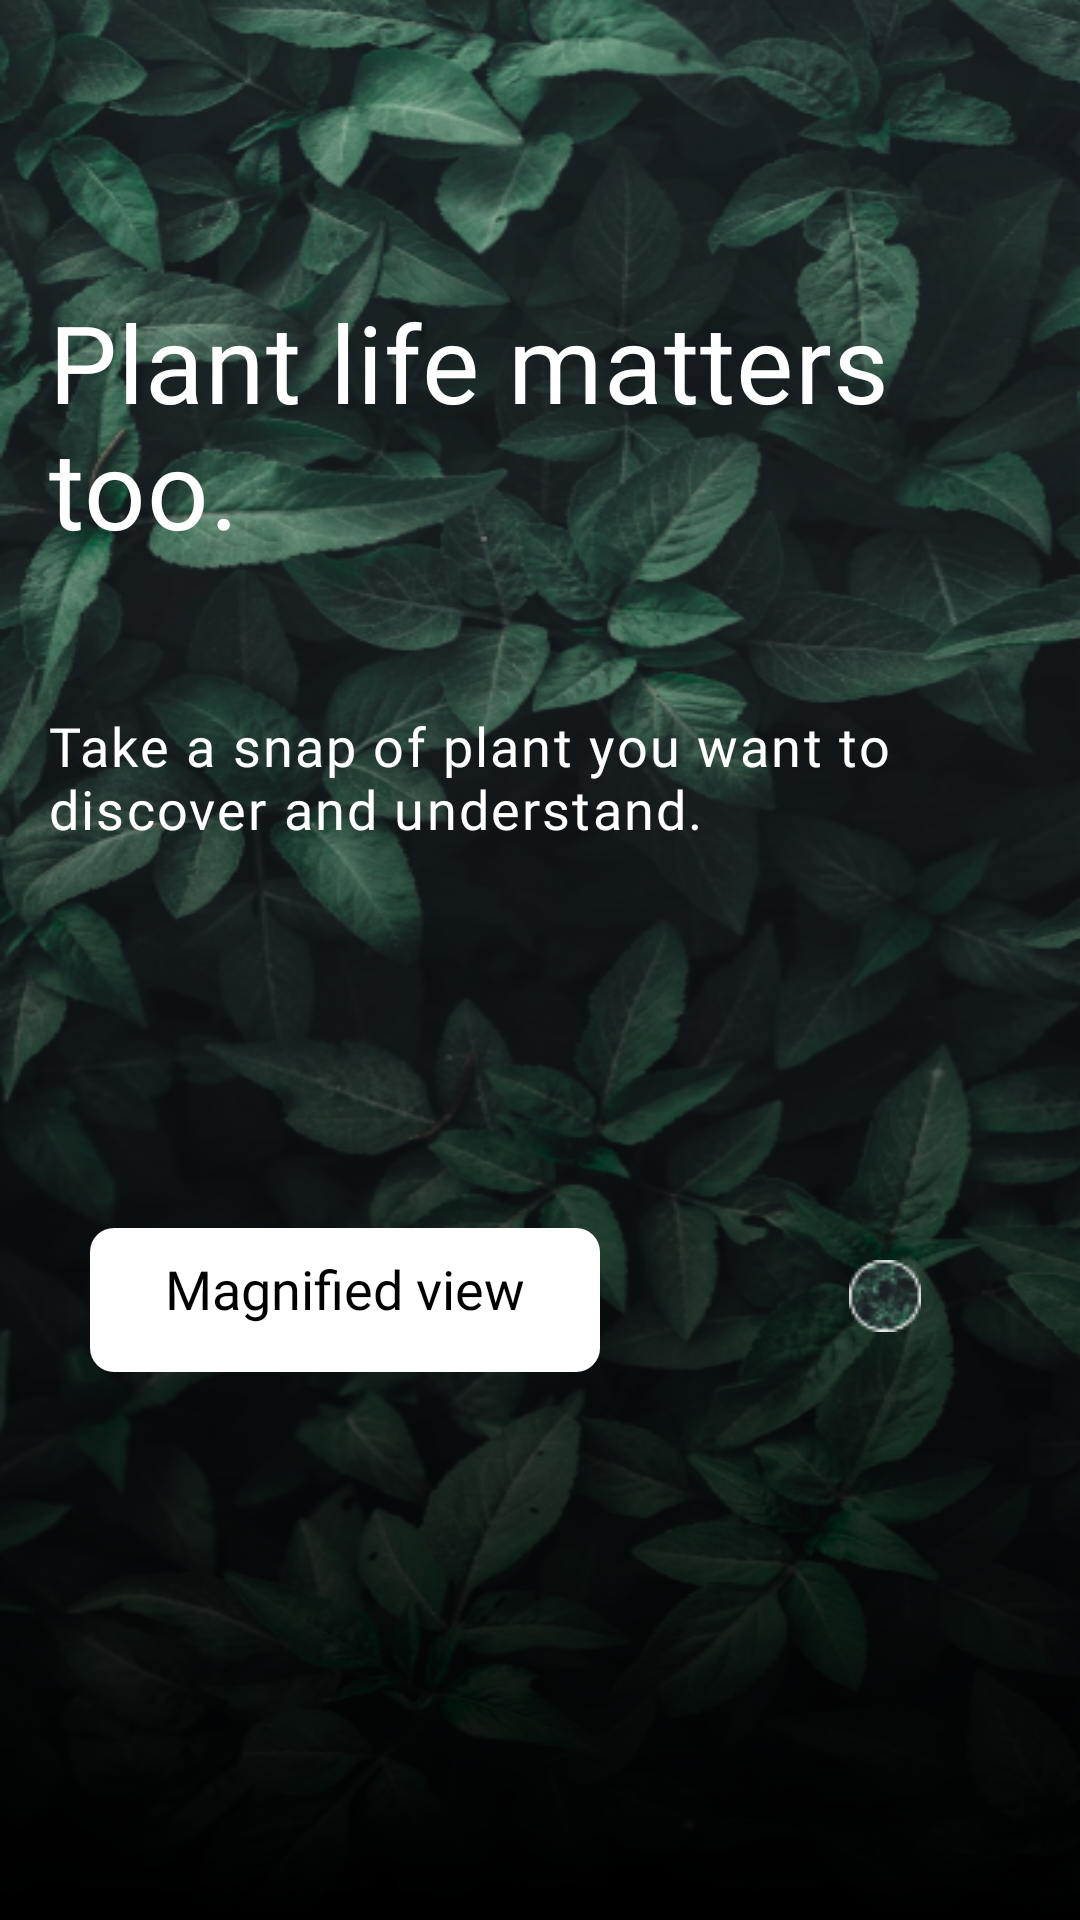

Icons on this 1080*1920 Android screen, each with the point to tap as (x=x, y=y):
magnified layer: (x=885, y=1296)
